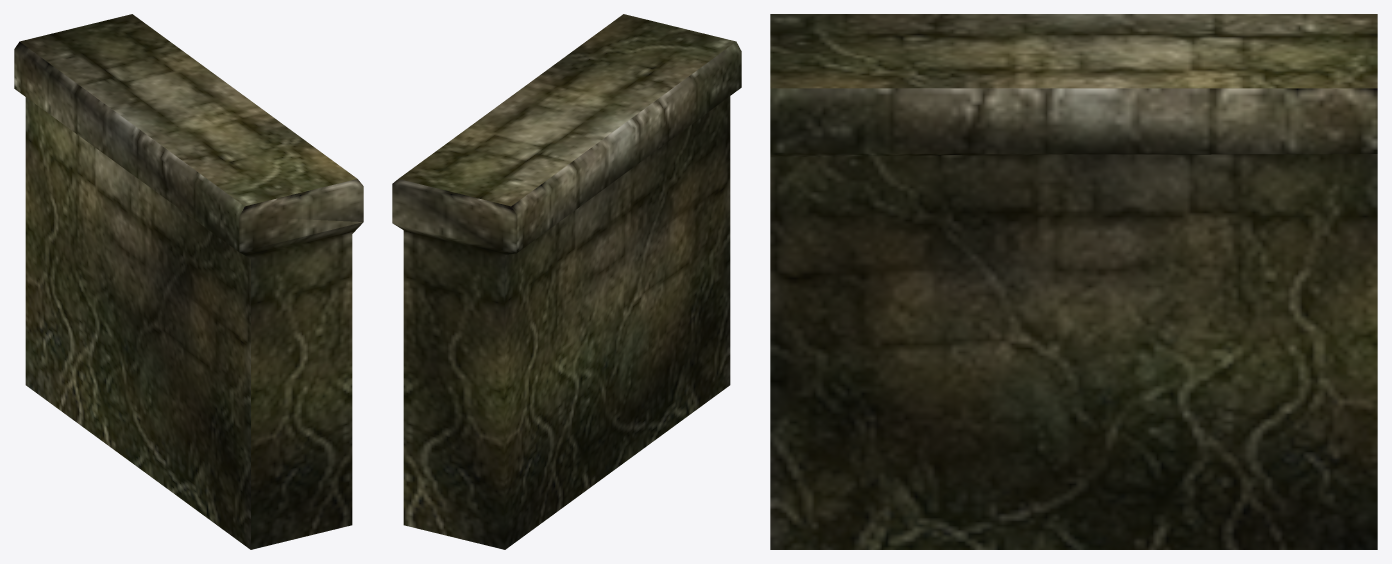
File: S_Build_3star007.FBX
3 renders of one model, left to right at view 1: azimuth 30°, elevation 25°; view 2: azimuth 150°, elevation 25°; view 3: azimuth 270°, elevation 25°, orthographic. The views are drawn at different scales.
Visible parts, largest first — view 1: S_Build_3star007; view 2: S_Build_3star007; view 3: S_Build_3star007.
Part boxes in pixels (x1=…): S_Build_3star007: x1=14, y1=14, x2=363, y2=549; S_Build_3star007: x1=392, y1=14, x2=741, y2=549; S_Build_3star007: x1=770, y1=14, x2=1377, y2=549.
Size of the model in its own units: 175 by 550 by 464.
